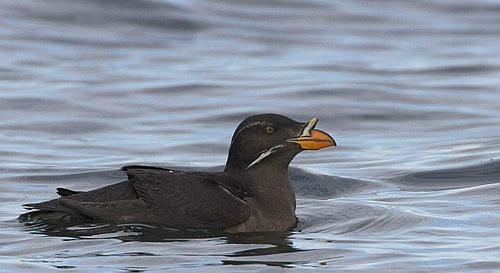008.Rhinoceros_Auklet: (17, 112, 338, 243)
